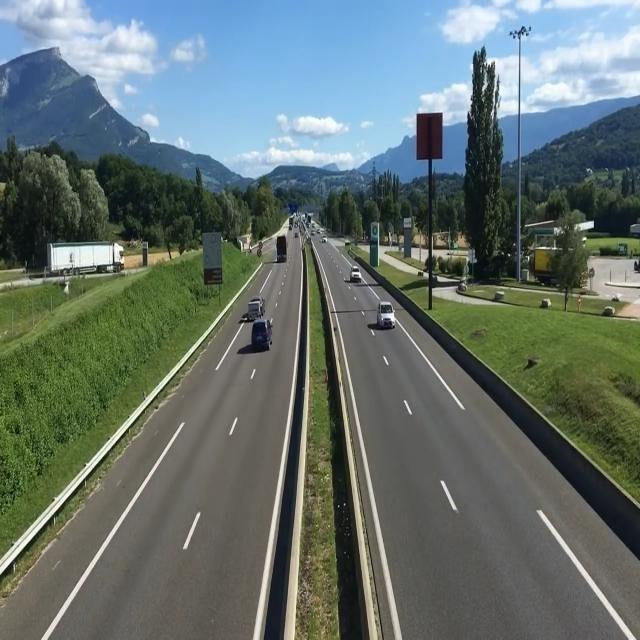Car: (250, 319, 274, 352), (376, 300, 396, 330), (349, 264, 362, 284)
Truck: (247, 295, 266, 319), (275, 234, 288, 264)
